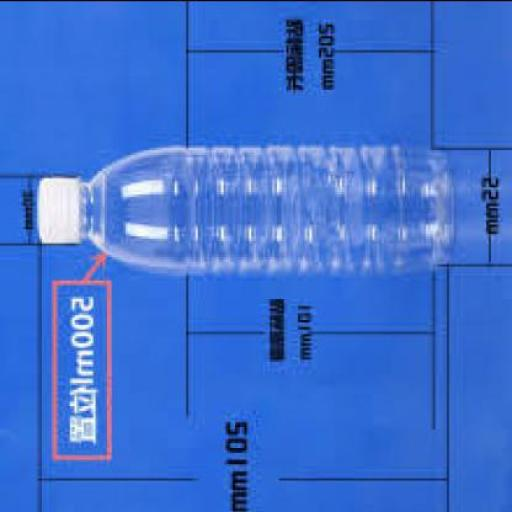plastic: (35, 142, 449, 265), (33, 172, 84, 240)
